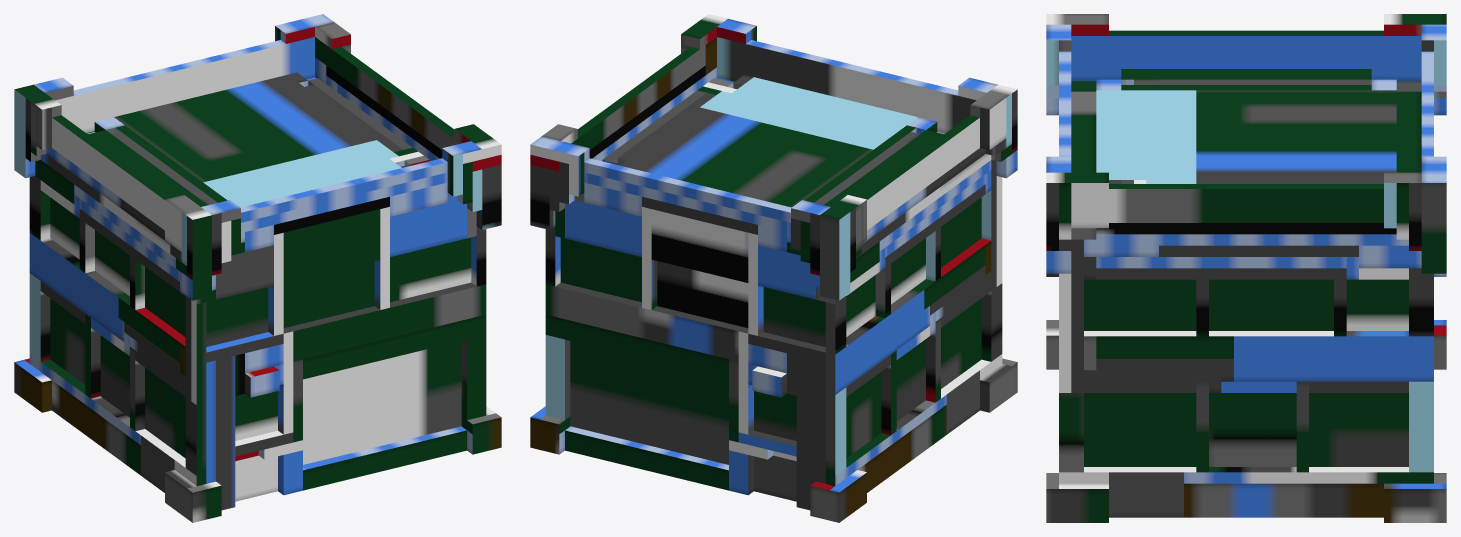
Rendered from Building1.1.dae.
The picture shows the model from 3 angles, left to right: view 1: azimuth 30°, elevation 25°; view 2: azimuth 150°, elevation 25°; view 3: azimuth 270°, elevation 25°; orthographic projection. The views are drawn at different scales.
Visible parts, largest first — view 1: Building1; view 2: Building1; view 3: Building1.
Boxes of the visible parts, x1,y1,x2,y2 form: Building1: (14, 14, 501, 522); Building1: (530, 14, 1017, 522); Building1: (1046, 14, 1446, 522).
Size of the model in its own units: 32 by 30 by 32.
Materials: 1 (1 with a texture image).
